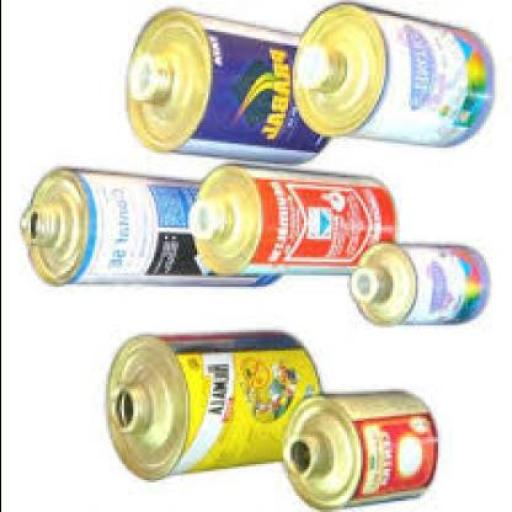metal: (100, 332, 321, 488), (120, 8, 328, 168), (18, 168, 284, 286), (286, 3, 494, 150), (184, 166, 394, 280), (277, 394, 439, 511), (344, 246, 489, 330)
